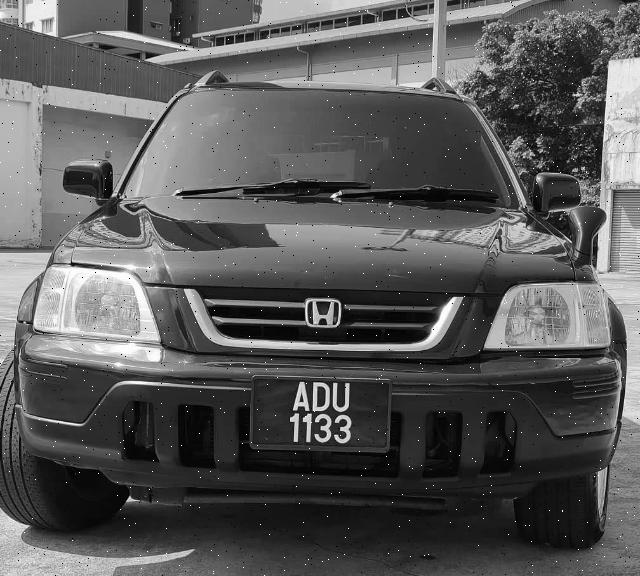License_Plate: (255, 375, 386, 454)
car: (1, 67, 640, 554)
